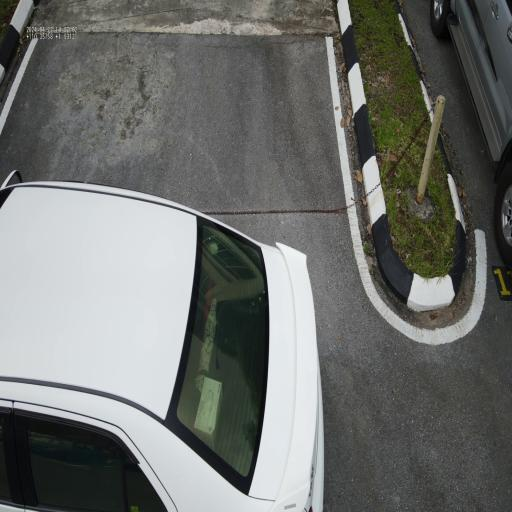Illegal: (0, 162, 325, 512)
